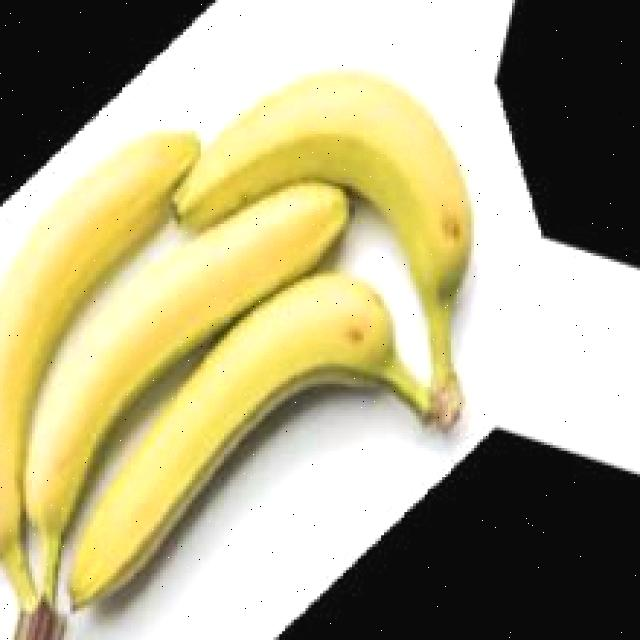banana: (0, 67, 483, 640)
